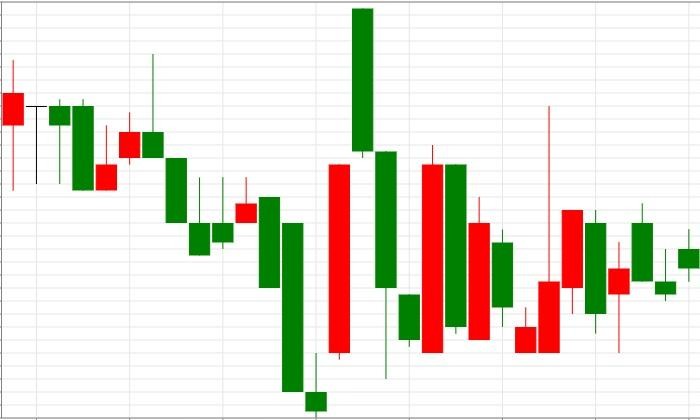morning_star_rise: (142, 53, 350, 417)
